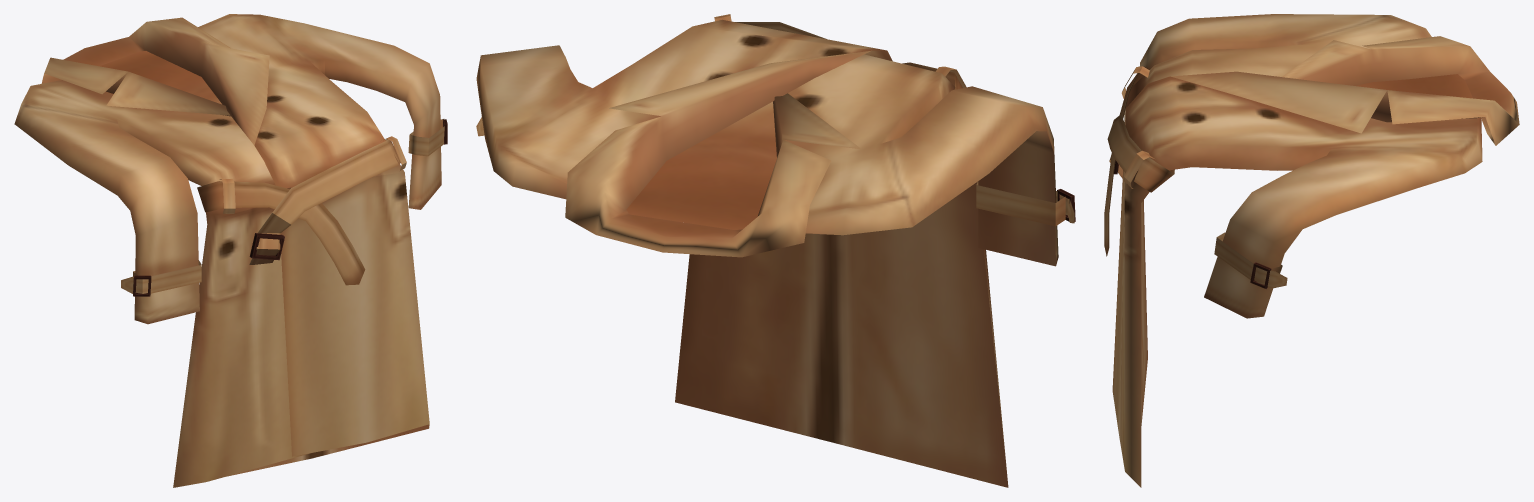
File: JiaMianWuHuiXianChang_01_yifu_01.FBX
3 views of the same model, side by side, from view 1: azimuth 30°, elevation 25°; view 2: azimuth 150°, elevation 25°; view 3: azimuth 270°, elevation 25° (orthographic). The views are drawn at different scales.
Parts seen in each view (by area): view 1: polySurface4; view 2: polySurface4; view 3: polySurface4.
Boxes of the visible parts, <box> form: polySurface4: <box>14,14,447,487</box>; polySurface4: <box>476,14,1075,487</box>; polySurface4: <box>1104,14,1519,487</box>.
Bounding box in the file's own units: 427 × 349 × 382.
